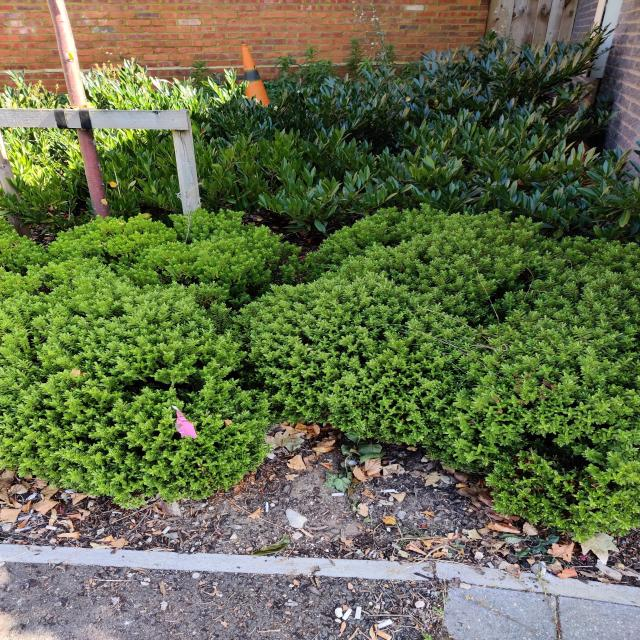litter: (377, 619, 392, 629), (342, 609, 353, 620), (377, 631, 391, 639), (354, 606, 361, 619), (161, 526, 172, 534), (486, 562, 495, 569), (45, 525, 57, 530), (65, 489, 77, 493), (332, 492, 344, 496), (383, 489, 395, 492), (266, 502, 269, 512)
